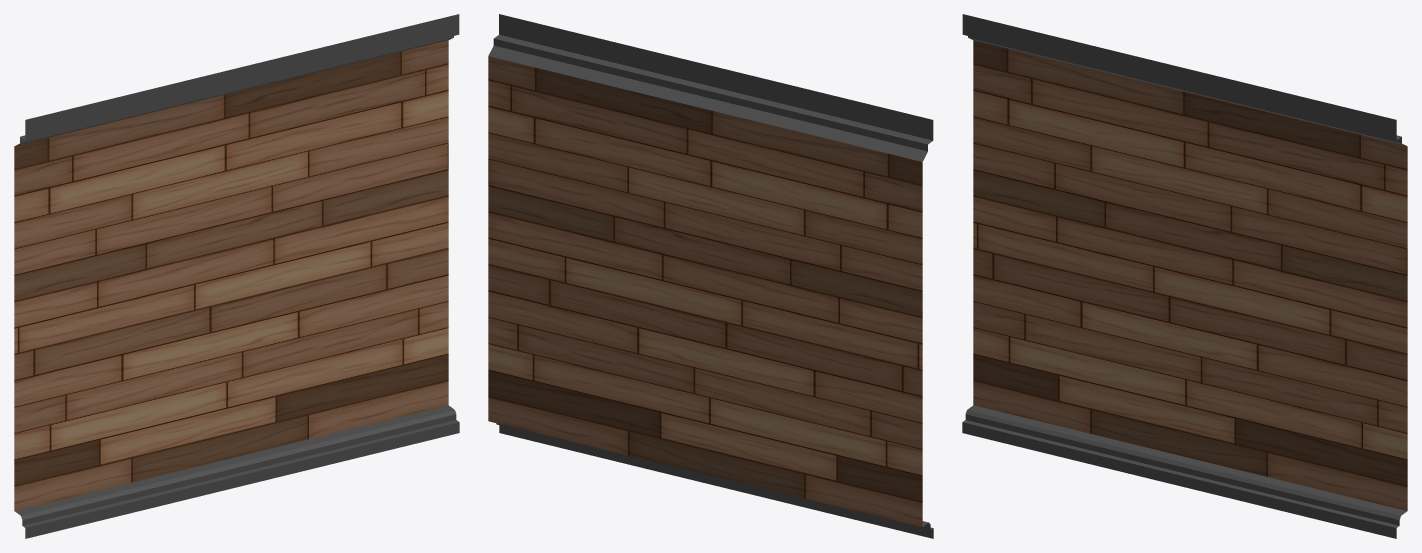
Rendered from Wall.fbx.
3 renders of one model, left to right at view 1: azimuth 30°, elevation 25°; view 2: azimuth 150°, elevation 25°; view 3: azimuth 330°, elevation 25°, orthographic.
Visible parts, largest first — view 1: Wall; view 2: Wall; view 3: Wall.
Part boxes in pixels (<box>): Wall: <box>14,14,459,538</box>; Wall: <box>488,14,933,538</box>; Wall: <box>962,14,1407,538</box>.
Bounding box in the file's own units: 3 × 2.77 × 0.1316.
